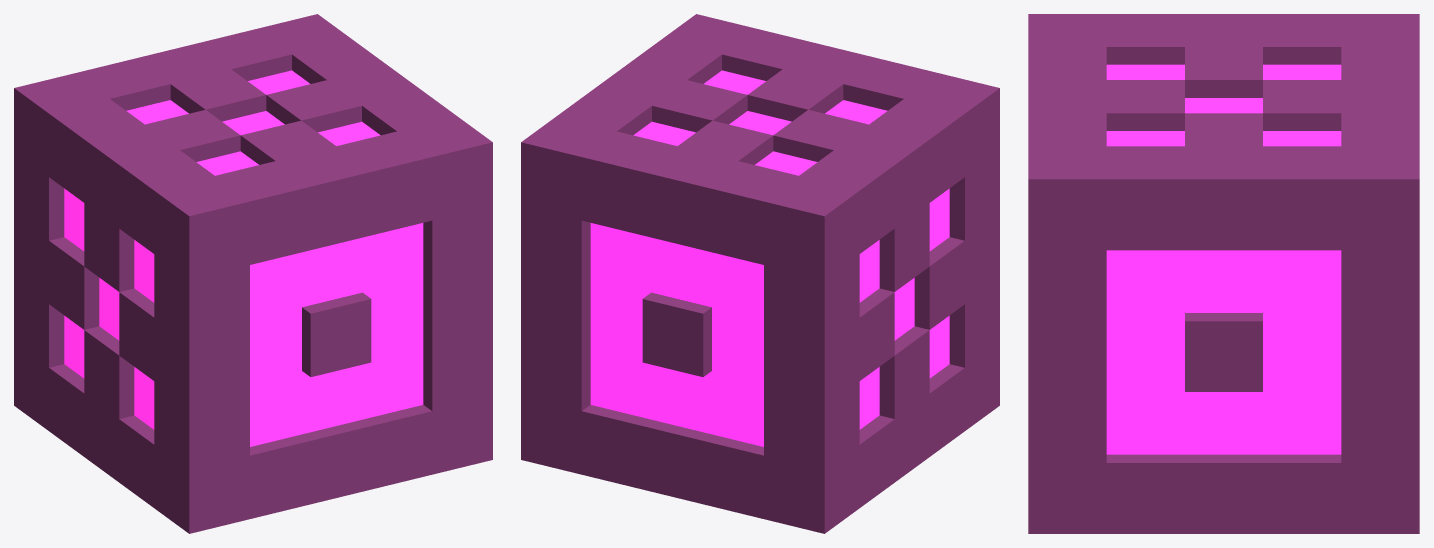
Rendered from CMPM179_Project1_boxSmall1.fbx.
3 views of the same model, side by side, from view 1: azimuth 30°, elevation 25°; view 2: azimuth 150°, elevation 25°; view 3: azimuth 270°, elevation 25° (orthographic). The views are drawn at different scales.
Parts seen in each view (by area): view 1: box_small1; view 2: box_small1; view 3: box_small1.
Boxes of the visible parts, x1,y1,x2,y2 form: box_small1: (14,14,492,533); box_small1: (521,14,999,533); box_small1: (1028,14,1419,533).
Bounding box in the file's own units: 100 × 100 × 100.
